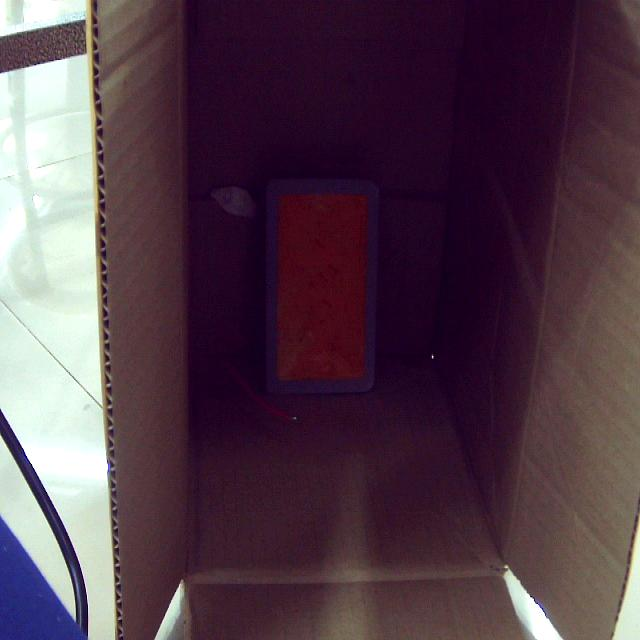block: (260, 176, 378, 398)
